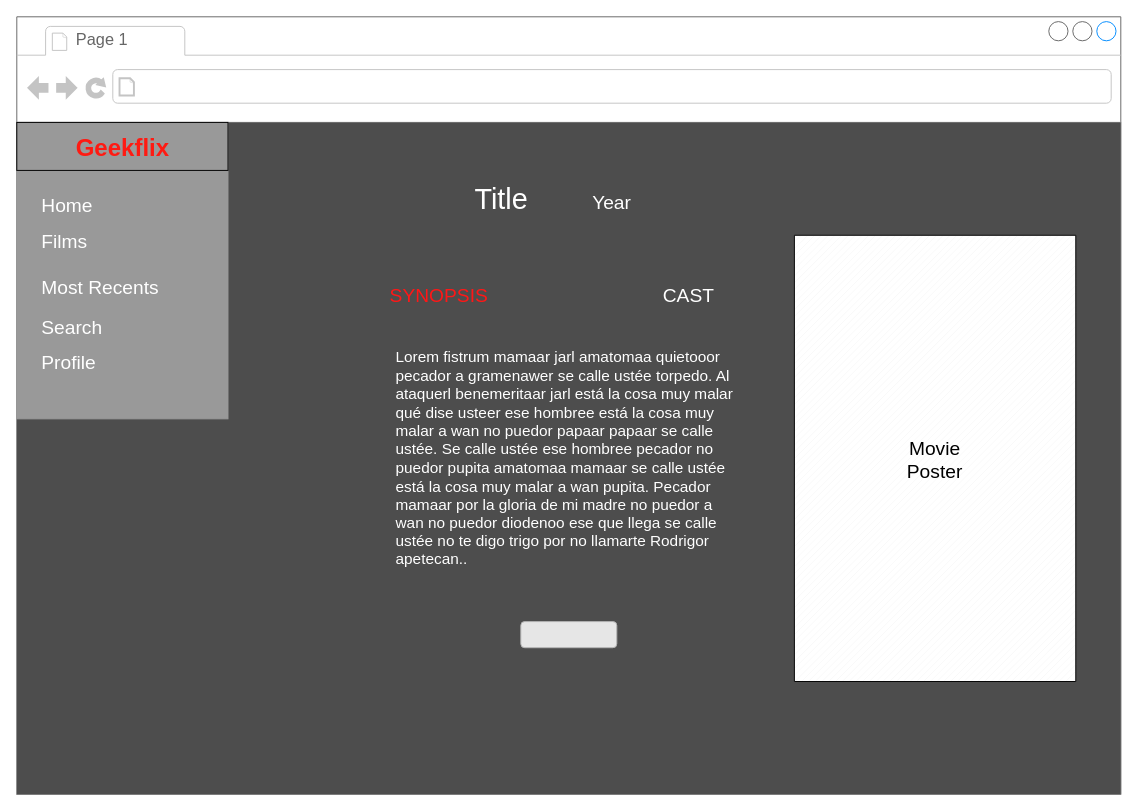
The diagram is 1138 pixels wide and 811 high, and some of its shapes have lost their labels. The shapes that lost their labels are listed below. From the top down, each one's centre as x and y in pixels, then its label:
At (261,86): "https://www.draw.io".
At (568,634): "RENT".
